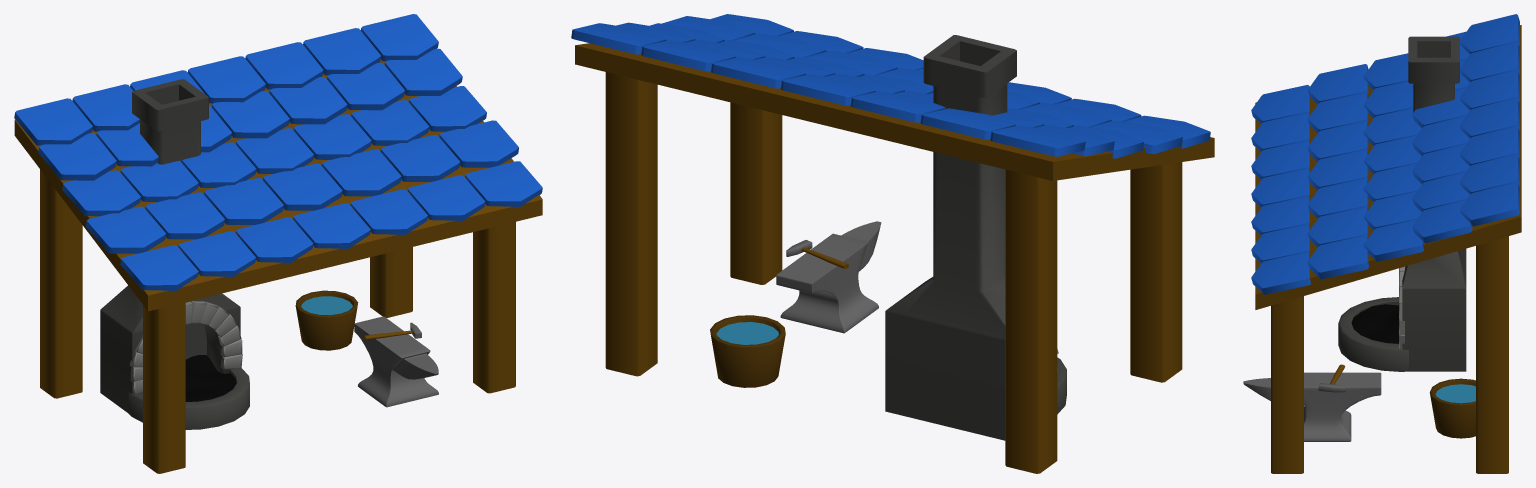
The model's file is Blacksmith_BlueTeam.glb.
The picture shows the model from 3 angles, left to right: view 1: azimuth 30°, elevation 25°; view 2: azimuth 150°, elevation 25°; view 3: azimuth 270°, elevation 25°; orthographic projection. The views are drawn at different scales.
Visible parts, largest first — view 1: Blacksmith_BlueTeam; view 2: Blacksmith_BlueTeam; view 3: Blacksmith_BlueTeam.
Part boxes in pixels (x1,y1,x2,y2): Blacksmith_BlueTeam: (14,14,542,473); Blacksmith_BlueTeam: (571,14,1214,473); Blacksmith_BlueTeam: (1243,14,1521,473).
Size of the model in its own units: 22.65 by 15.71 by 13.37.
